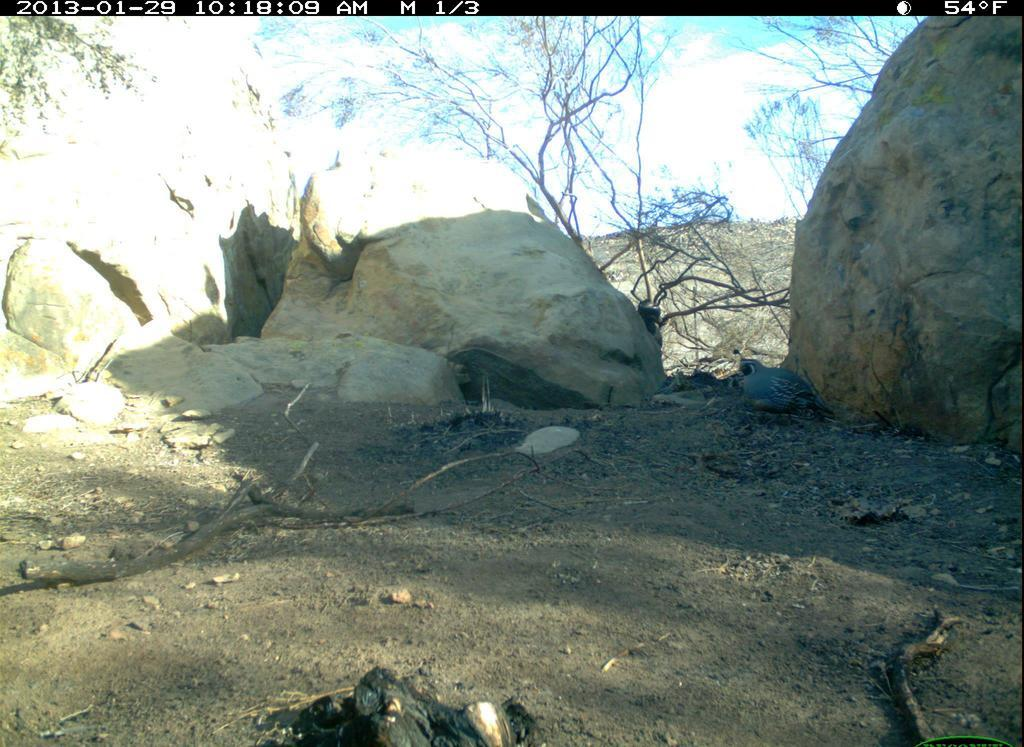bird: (726, 342, 857, 432)
